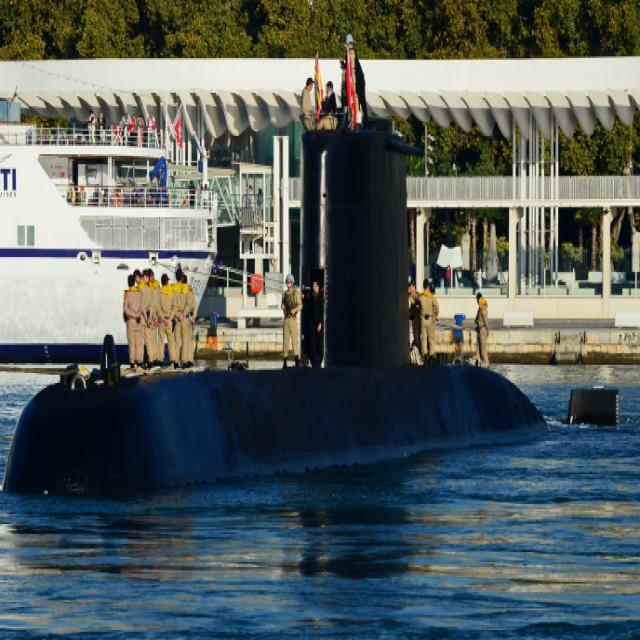submarine: (3, 122, 620, 492)
